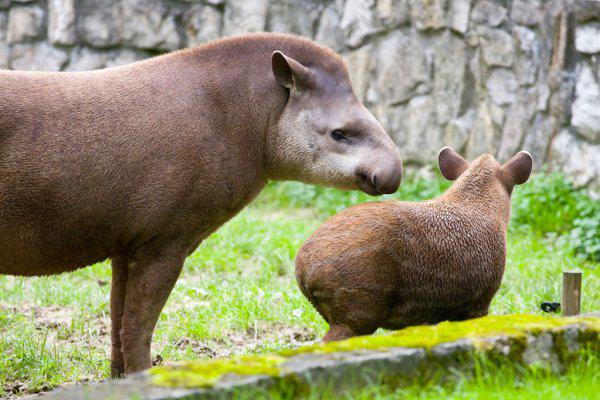Anta: (7, 29, 408, 347), (286, 144, 538, 338)
